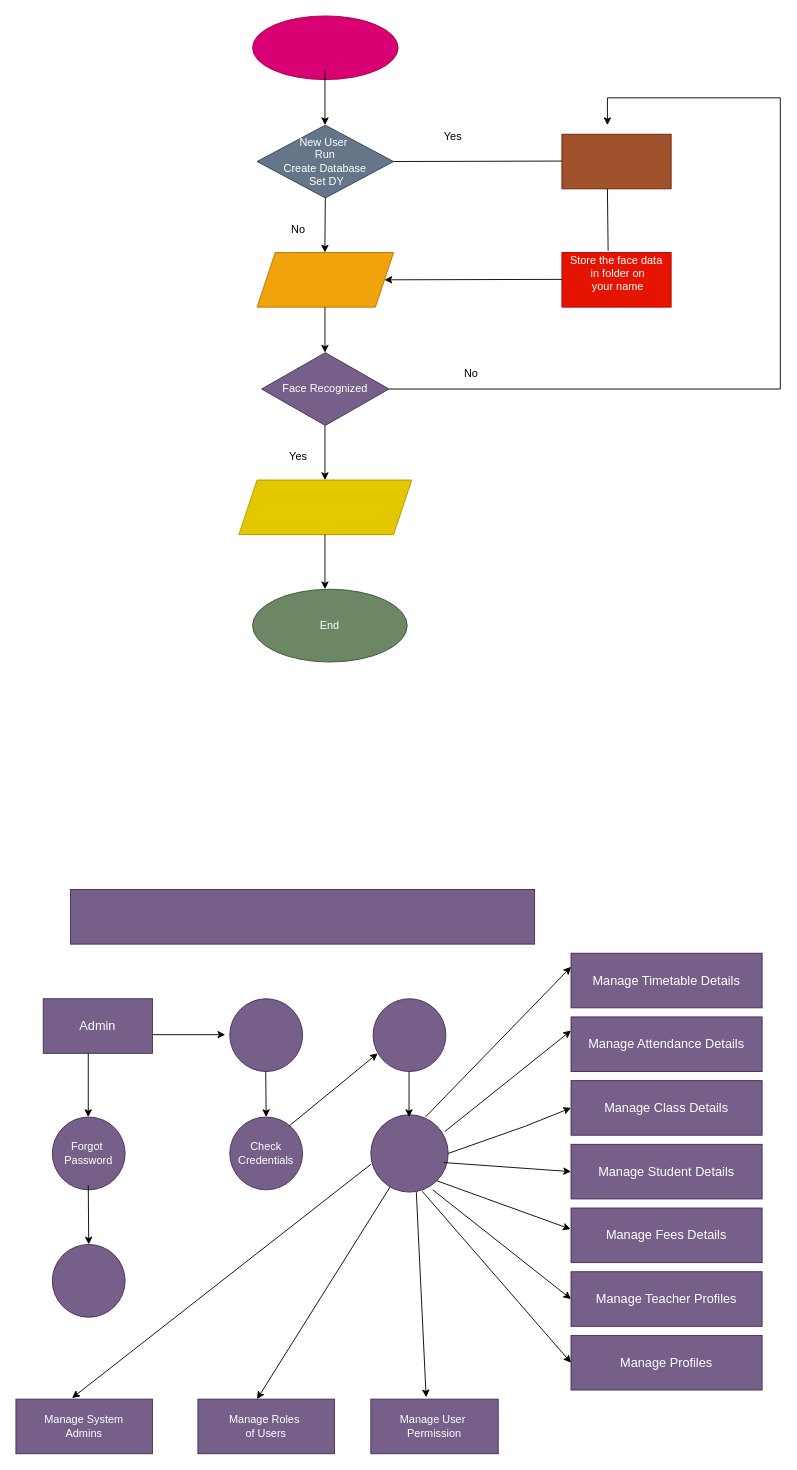
This 797x1470 diagram has some shape labels left out. The shapes that lost their labels are listed below. From the top down, each one's centre as x and y in pixels, then its label:
(325,47): Start
(616,161): GIve your Photograph
(325,279): Recognize the Face Run Face_Recognition DY
(325,507): Stored in CSV file with Registration Number & Date_Time of Entry
(302,916): Student Information System
(266,1035): Login to Systems
(409,1035): Check Roles of Access
(409,1153): Manage Modules
(88,1280): Send Email to User
